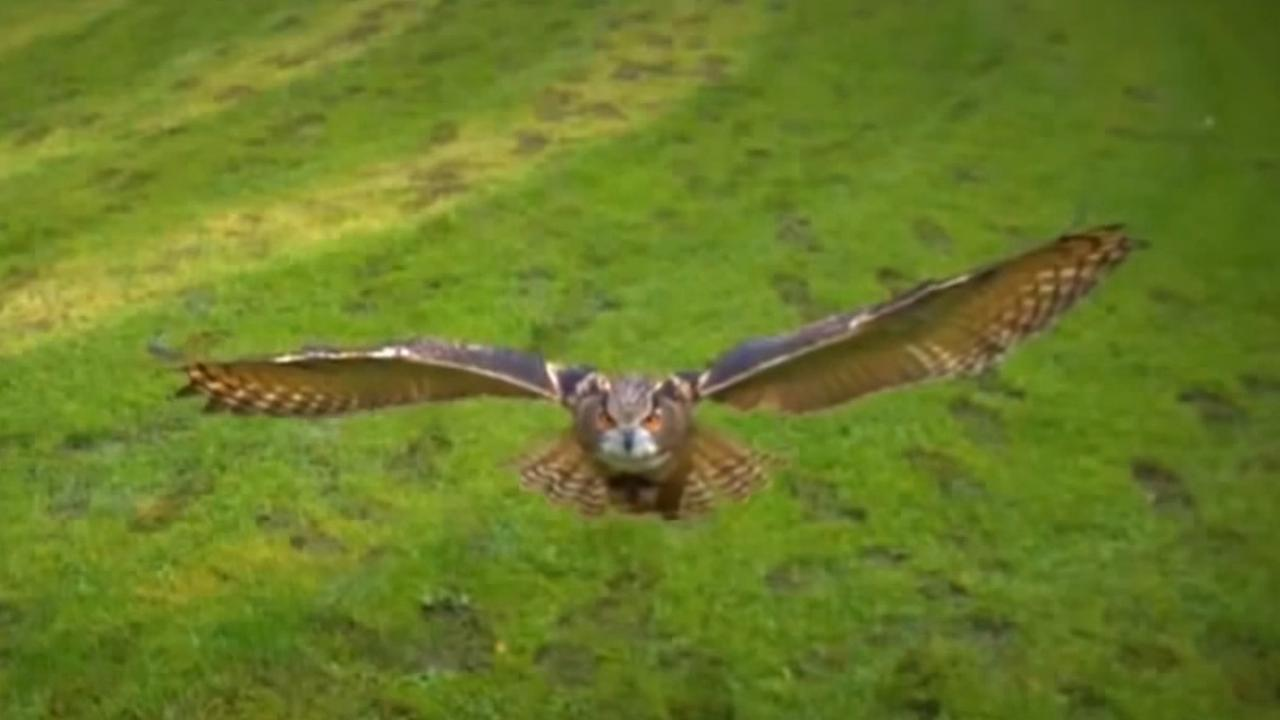Bird: (175, 207, 1148, 529)
